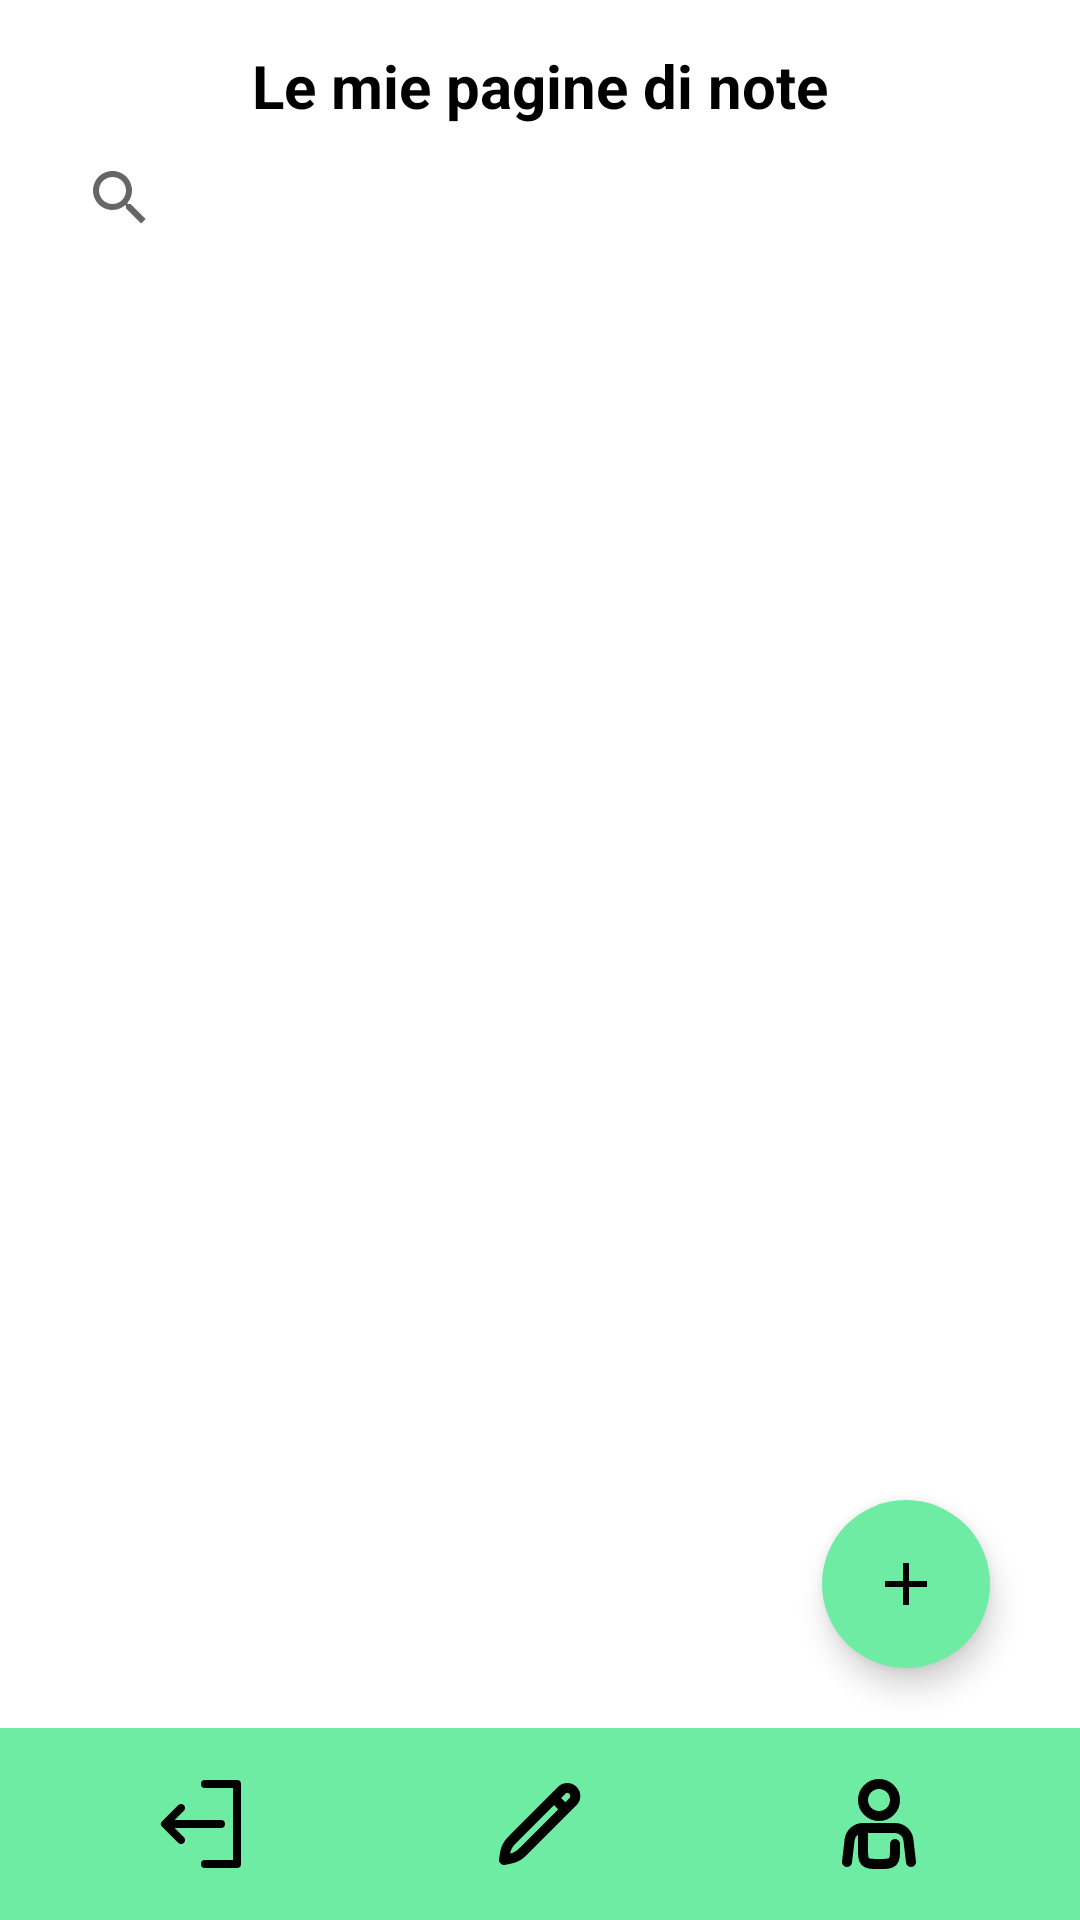

Screen size 1080px x 1920px. Icon name, then its box in pixels as box=[x1, y1, x2, y2]:
button to add new note pages: box=[822, 1500, 990, 1668]
